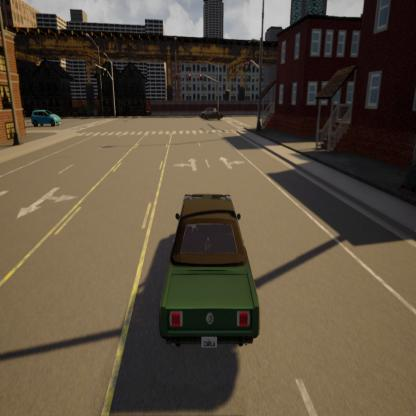Cars: (150, 178, 272, 366), (24, 96, 72, 136), (195, 93, 232, 134)
